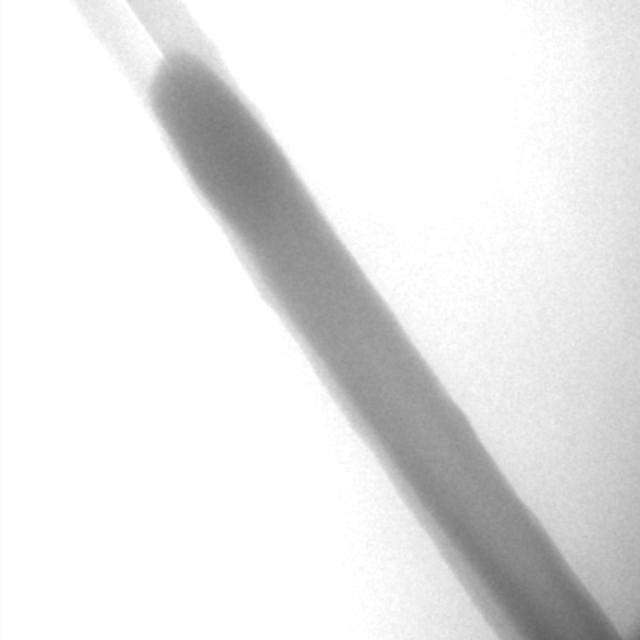broken arc: (123, 1, 163, 57)
